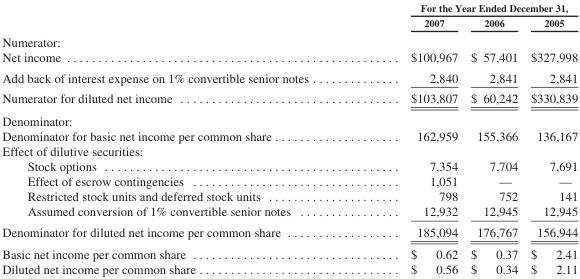table: (1, 1, 577, 276)
table column: (1, 1, 359, 276), (359, 1, 463, 276), (463, 1, 523, 276), (523, 1, 577, 276)
table column header: (1, 1, 577, 31)
table projected row header: (1, 108, 577, 127), (1, 31, 577, 49), (1, 142, 577, 158)
table row: (1, 87, 577, 108), (1, 221, 577, 242), (1, 67, 577, 87), (1, 108, 577, 127), (1, 242, 577, 261), (1, 31, 577, 49), (1, 49, 577, 67), (1, 203, 577, 221), (1, 14, 577, 31), (1, 142, 577, 158), (1, 127, 577, 142), (1, 158, 577, 173), (1, 173, 577, 188), (1, 188, 577, 203), (1, 261, 577, 276), (1, 1, 577, 14)
table spanning cell: (359, 1, 577, 14)
